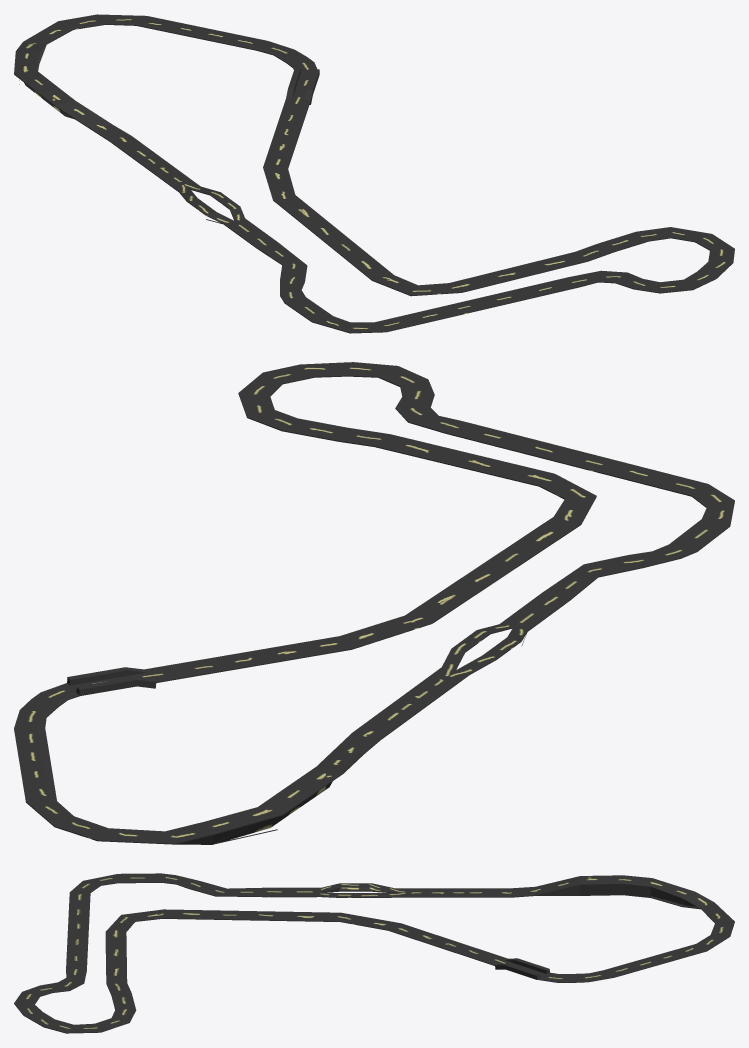
Rendered from PistaLarga.fbx.
3 renders of one model, top to bottom at view 1: azimuth 30°, elevation 25°; view 2: azimuth 150°, elevation 25°; view 3: azimuth 270°, elevation 25°, orthographic. The views are drawn at different scales.
Visible parts, largest first — view 1: Pista; view 2: Pista; view 3: Pista.
Boxes of the visible parts, x1,y1,x2,y2 form: Pista: (14, 14, 734, 333); Pista: (14, 362, 734, 844); Pista: (14, 873, 734, 1033).
Bounding box in the file's own units: 16106 × 618 × 30768.
